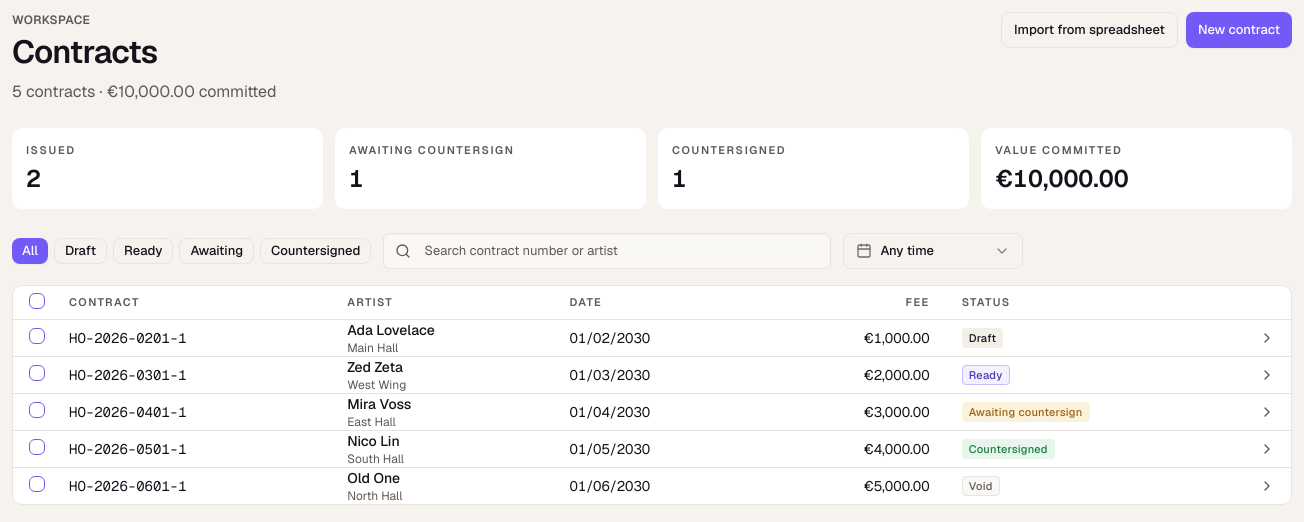
it: HireOrdersPage › filters the table by status chip without changing the KPI totals
Expected: the text "HO-2026-0201-1" is shown, [69, 329, 187, 347]
Click the button "Draft" at (80, 250), box [54, 238, 107, 264]
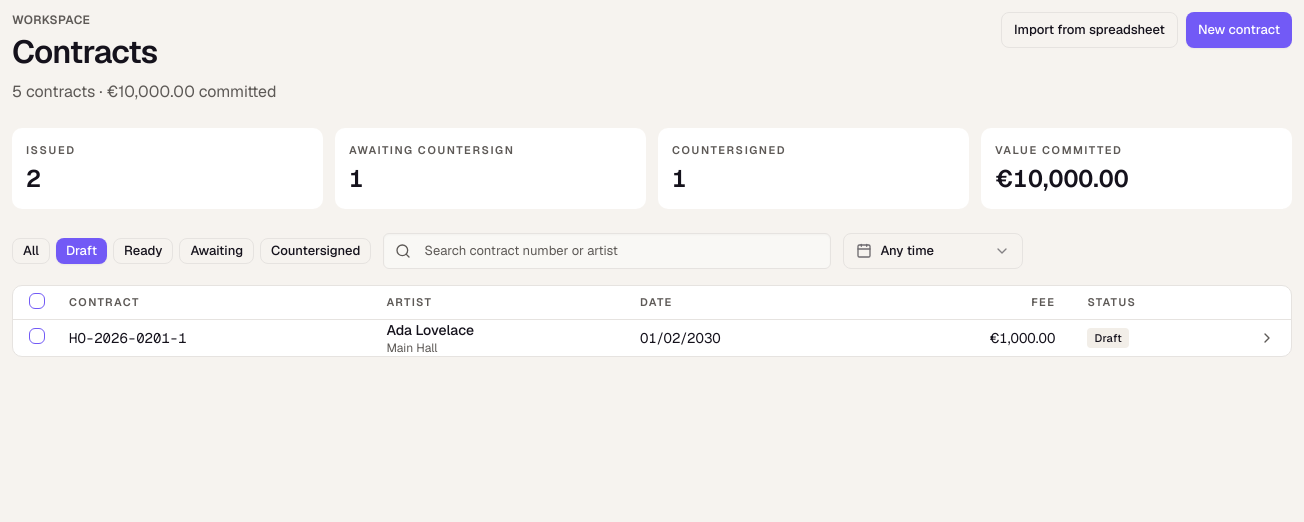
Expected: the text "HO-2026-0201-1" is shown, [69, 329, 187, 347]
Result: the button "HO-2026-0301-1" is gone
